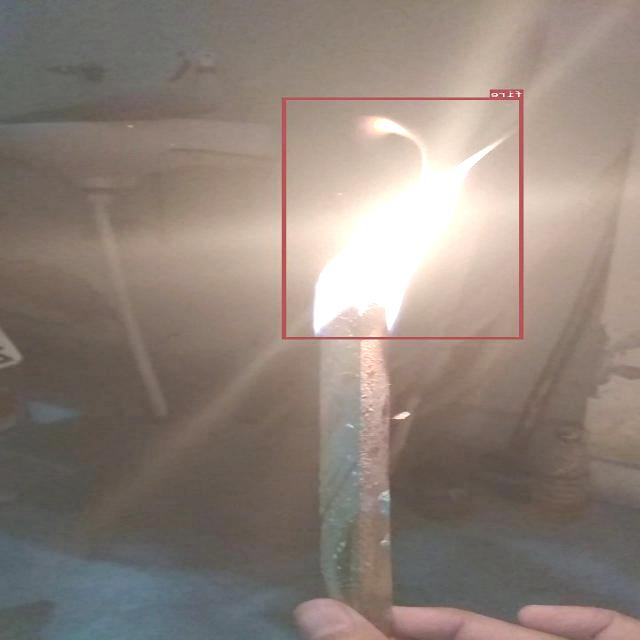fire: (283, 97, 524, 339)
